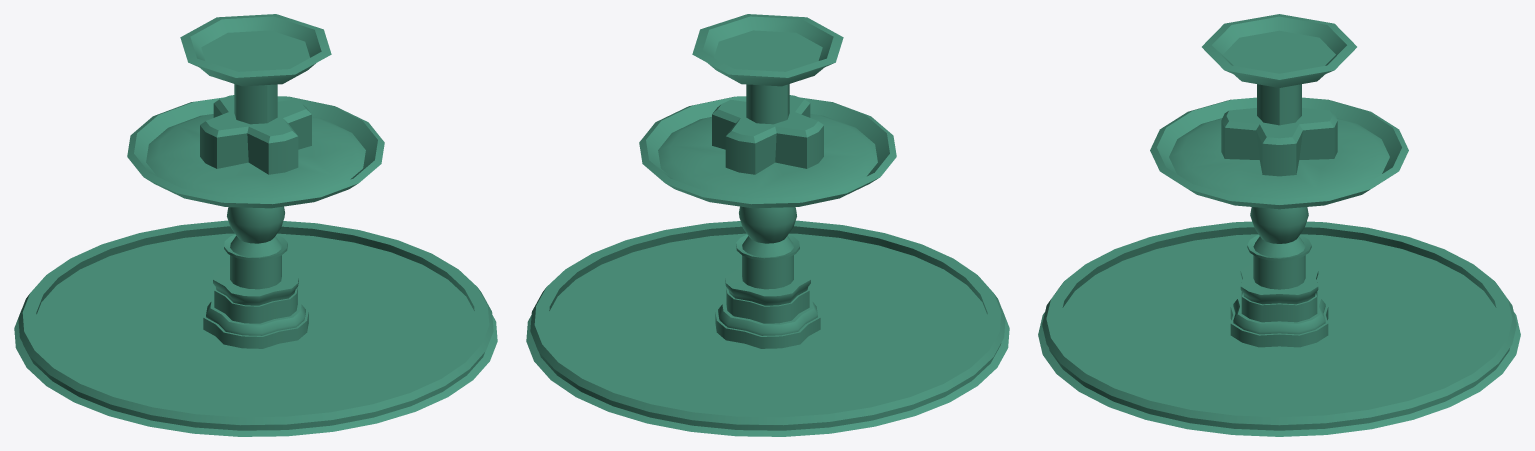
The model's file is Fountain.fbx.
3 renders of one model, left to right at view 1: azimuth 30°, elevation 25°; view 2: azimuth 150°, elevation 25°; view 3: azimuth 270°, elevation 25°, orthographic.
Parts seen in each view (by area): view 1: Circle.001; view 2: Circle.001; view 3: Circle.001.
Part boxes in pixels (x1,y1,x2,y2): Circle.001: [14, 14, 497, 436]; Circle.001: [526, 14, 1009, 436]; Circle.001: [1038, 14, 1520, 436].
Bounding box in the file's own units: 974 × 645 × 974.
